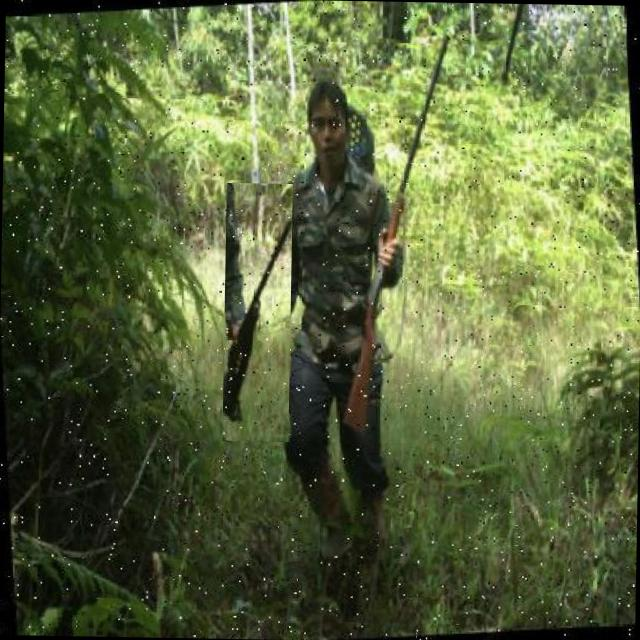ranger: (234, 49, 440, 542)
weapon: (349, 38, 453, 484)
